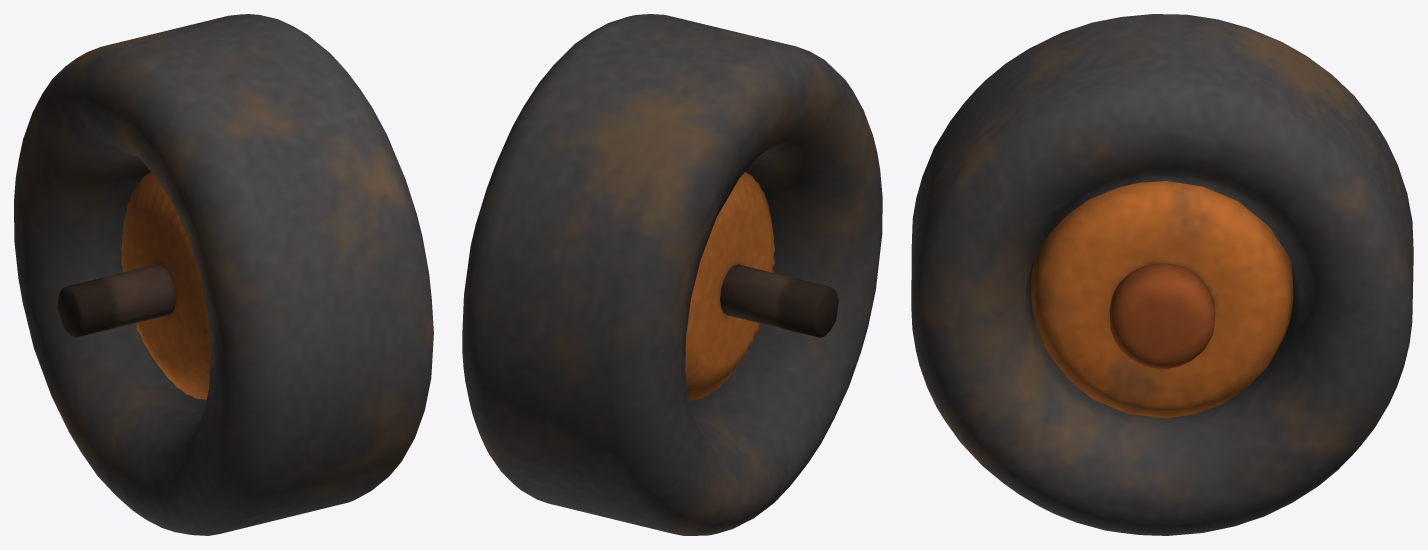
The picture shows the model from 3 angles, left to right: view 1: azimuth 30°, elevation 25°; view 2: azimuth 150°, elevation 25°; view 3: azimuth 270°, elevation 25°; orthographic projection.
Visible parts, largest first — view 1: wheel_FL; view 2: wheel_FL; view 3: wheel_FL.
Boxes of the visible parts, x1,y1,x2,y2 form: wheel_FL: (14, 14, 433, 535); wheel_FL: (462, 14, 882, 535); wheel_FL: (911, 14, 1413, 535).
Size of the model in its own units: 0.2065 by 0.3393 by 0.3393.
Materials: 1 (1 with a texture image).
